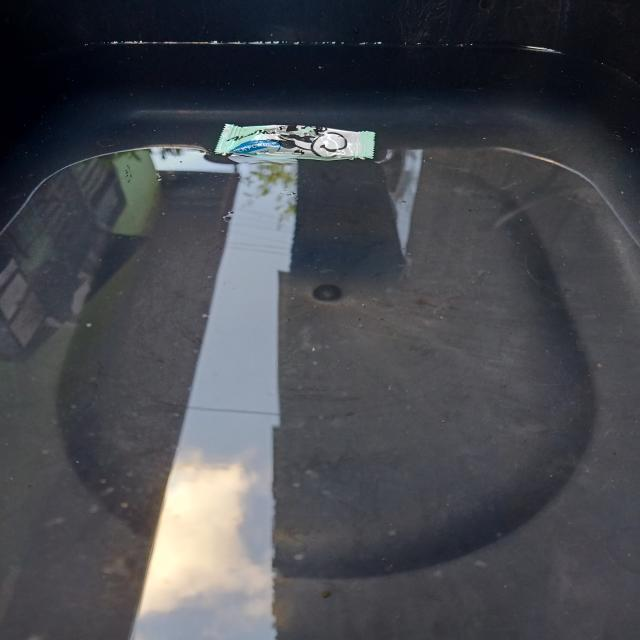Plastic Wrapper: (210, 112, 382, 173)
